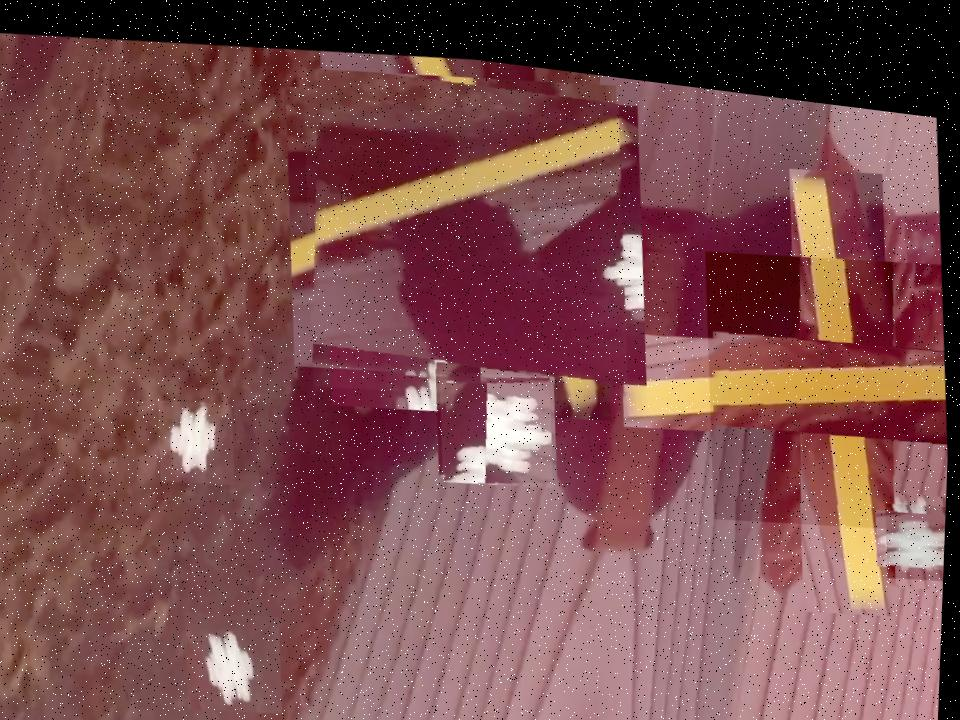dent: (438, 351, 558, 480), (186, 599, 289, 711), (158, 389, 239, 482), (886, 474, 949, 558)
scratch: (293, 38, 639, 408), (698, 215, 956, 522)
